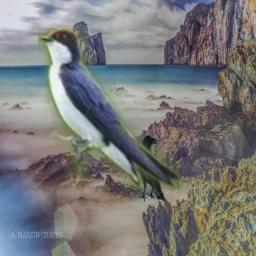Crow: (136, 135, 165, 202)
Swallow: (38, 28, 180, 190)
